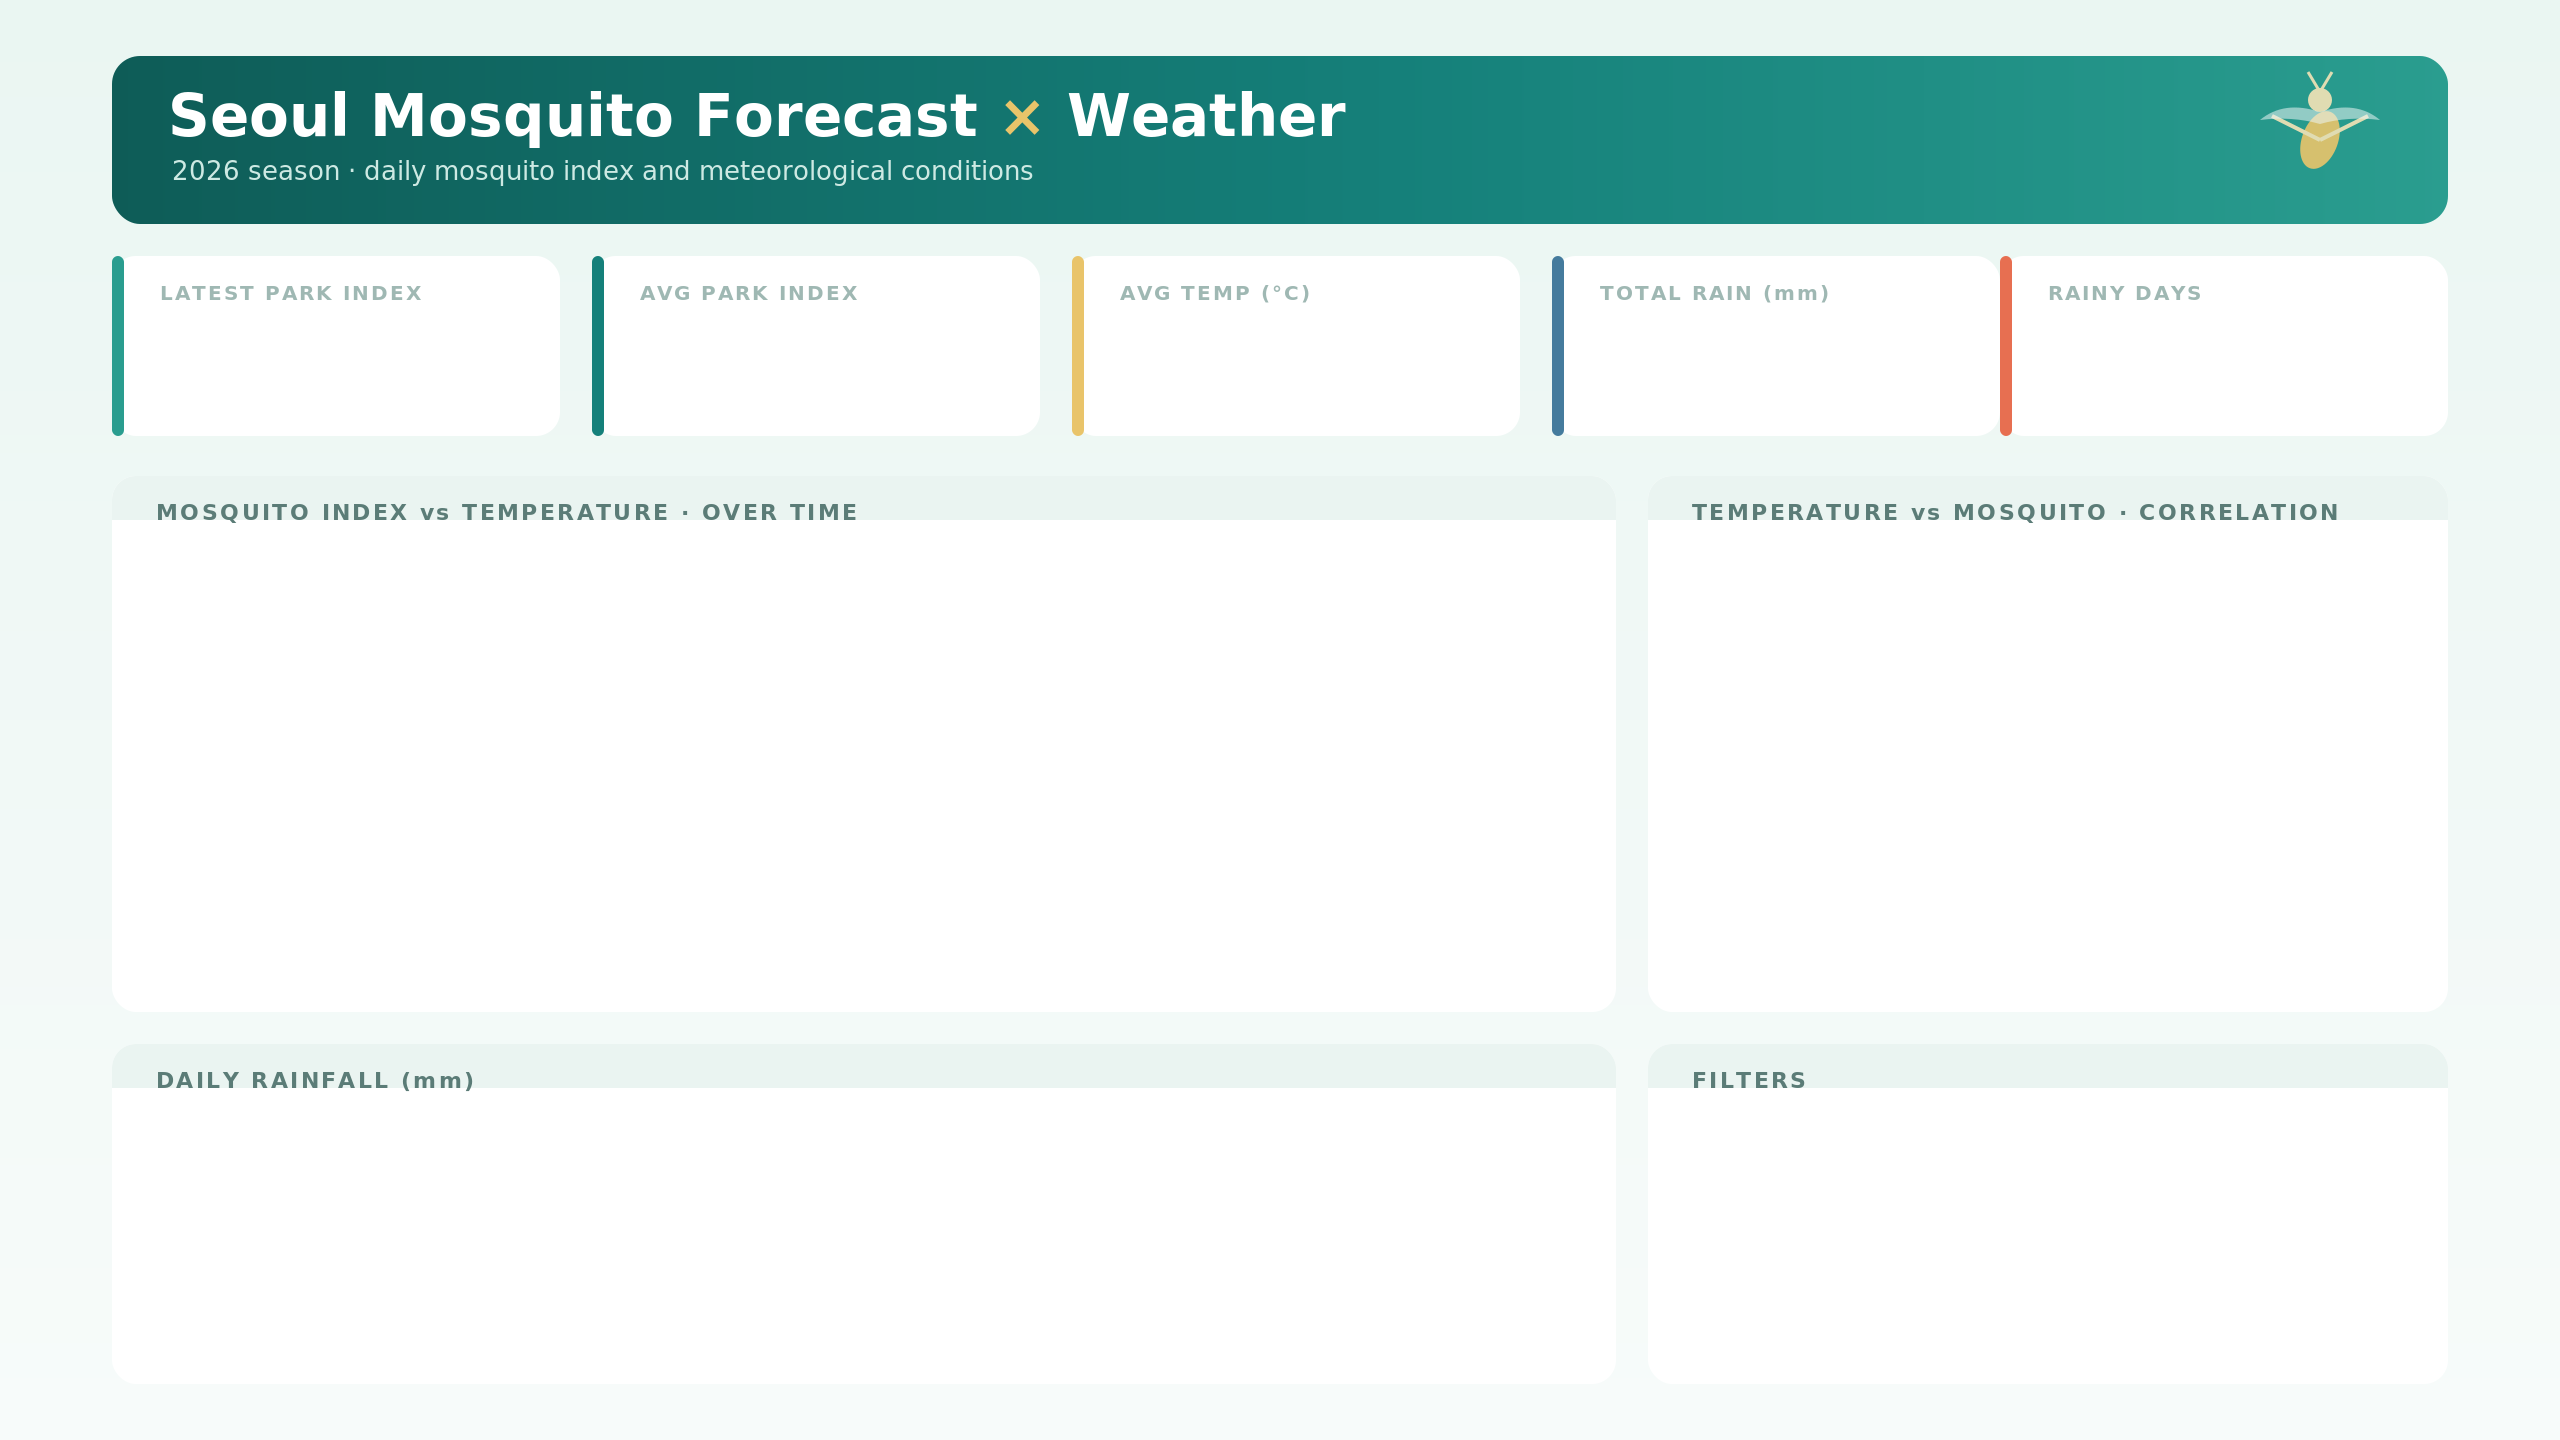

This screenshot's page, from the dashboard's own definition file:
{"tool":"powerbi","page":{"name":"Page 1","canvas":[1280,720],"ordinal":0},"visuals":[{"type":"cardVisual","fields":{"Data":["dim_date.Latest Park Index"]},"box":[63.9,127.8,217.2,89.4],"z":0},{"type":"cardVisual","fields":{"Data":["dim_date.Avg Park Index"]},"box":[302.1,127.8,217.2,89.4],"z":1},{"type":"cardVisual","fields":{"Data":["dim_date.Avg Temp"]},"box":[540.2,127.8,217.2,89.4],"z":2},{"type":"cardVisual","fields":{"Data":["dim_date.Total Rainfall (mm)"]},"box":[778.4,127.8,217.2,89.4],"z":3},{"type":"cardVisual","fields":{"Data":["dim_date.Rainy Days"]},"box":[1016.6,127.8,217.2,89.4],"z":4},{"type":"lineClusteredColumnComboChart","title":"Mosquito Index vs Temperature ","fields":{"Category":["dim_date.Date.Variation.Date Hierarchy.Year","dim_date.Date.Variation.Date Hierarchy.Quarter","dim_date.Date.Variation.Date Hierarchy.Month","dim_date.Date.Variation.Date Hierarchy.Day"],"Y":["dim_date.Avg Park Index","dim_date.Avg House Index"],"Y2":["dim_date.Avg Temp"]},"box":[51.1,231.8,762.9,253.7],"z":5},{"type":"scatterChart","title":"Correlation Scatter","fields":{"Category":["dim_date.Date.Variation.Date Hierarchy.Day"],"X":["dim_date.Avg Temp"],"Y":["dim_date.Avg Park Index"]},"box":[814,231.8,419.8,286.5],"z":6},{"type":"clusteredColumnChart","fields":{"Category":["dim_date.Date.Variation.Date Hierarchy.Day"],"Y":["dim_date.Total Rainfall (mm)"]},"box":[51.1,485.5,762.9,211.7],"z":7},{"type":"slicer","fields":{"Values":["dim_date.Date"]},"box":[819.5,560.3,414.3,98.6],"z":8}]}

Visuals, with their boxes in screenshot pixels (x1, y1, x2, y2), scaled from the page's 1280x720 canvas onto the 2560x1440 screenshot:
cardVisual - dim_date.Latest Park Index: {"x1": 128, "y1": 256, "x2": 562, "y2": 434}
cardVisual - dim_date.Avg Park Index: {"x1": 604, "y1": 256, "x2": 1039, "y2": 434}
cardVisual - dim_date.Avg Temp: {"x1": 1080, "y1": 256, "x2": 1515, "y2": 434}
cardVisual - dim_date.Total Rainfall (mm): {"x1": 1557, "y1": 256, "x2": 1991, "y2": 434}
cardVisual - dim_date.Rainy Days: {"x1": 2033, "y1": 256, "x2": 2468, "y2": 434}
"Mosquito Index vs Temperature " lineClusteredColumnComboChart: {"x1": 102, "y1": 464, "x2": 1628, "y2": 971}
"Correlation Scatter" scatterChart: {"x1": 1628, "y1": 464, "x2": 2468, "y2": 1037}
clusteredColumnChart - dim_date.Date.Variation.Date Hierarchy.Day x dim_date.Total Rainfall (mm): {"x1": 102, "y1": 971, "x2": 1628, "y2": 1394}
slicer - dim_date.Date: {"x1": 1639, "y1": 1121, "x2": 2468, "y2": 1318}
